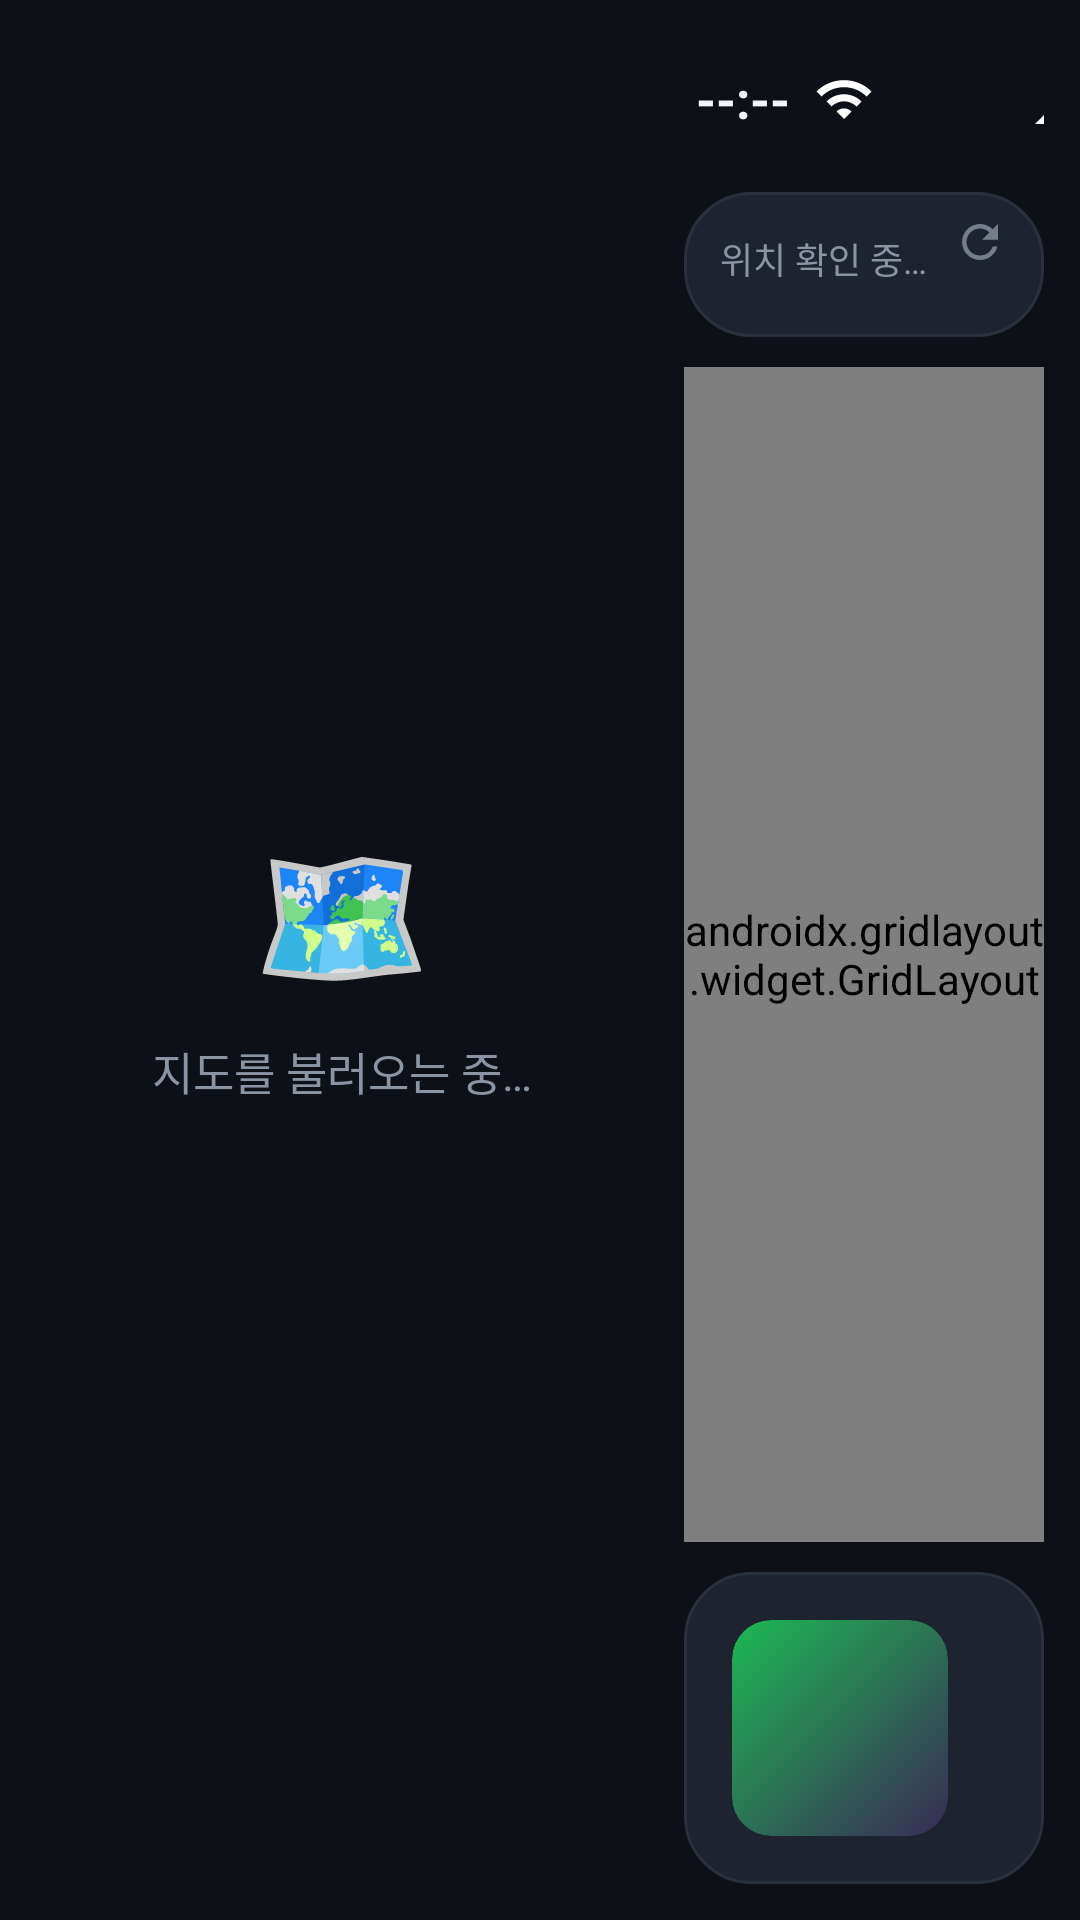

Named icons in this screenshot (1080px×1920px) and their centers, point (x, y):
와이파이: point (844, 99)
